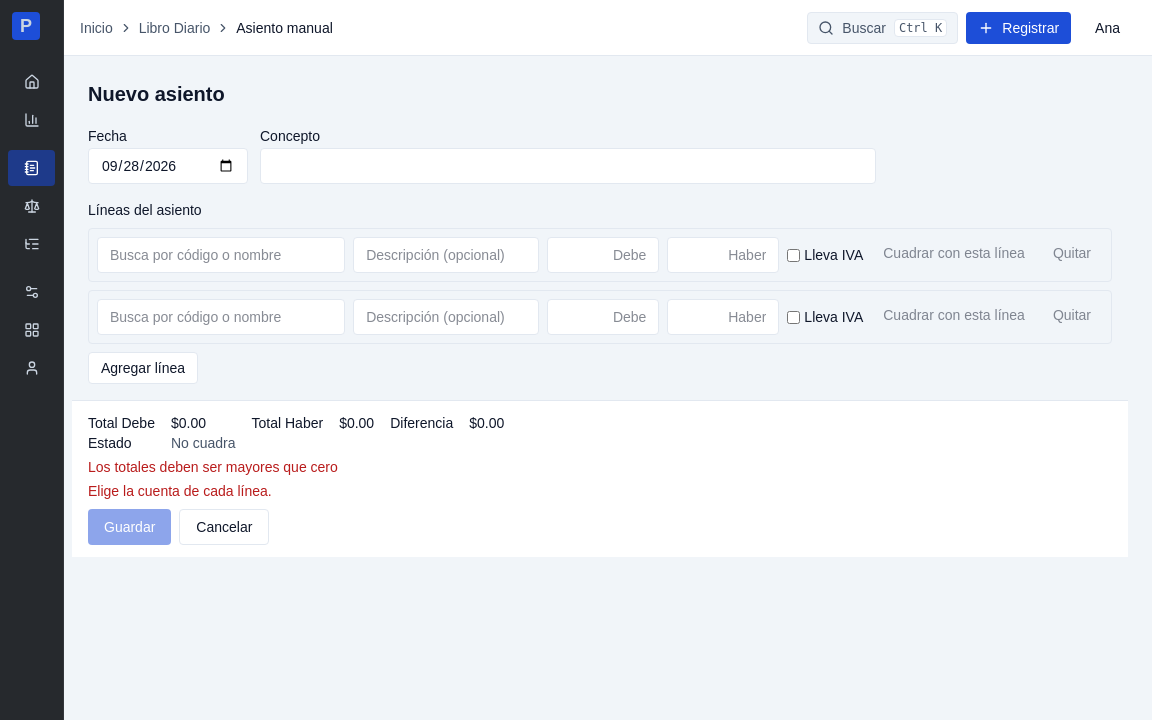
it: formulario del Libro Diario: totales y partida doble › un descuadre real (Debe 10.00 / Haber 9.00) sí anuncia la diferencia
The width and height of the screenshot is (1152, 720).
In the dropdown named "Cuenta de la línea 1": [221, 255] box [97,237,345,273], type "11010101"
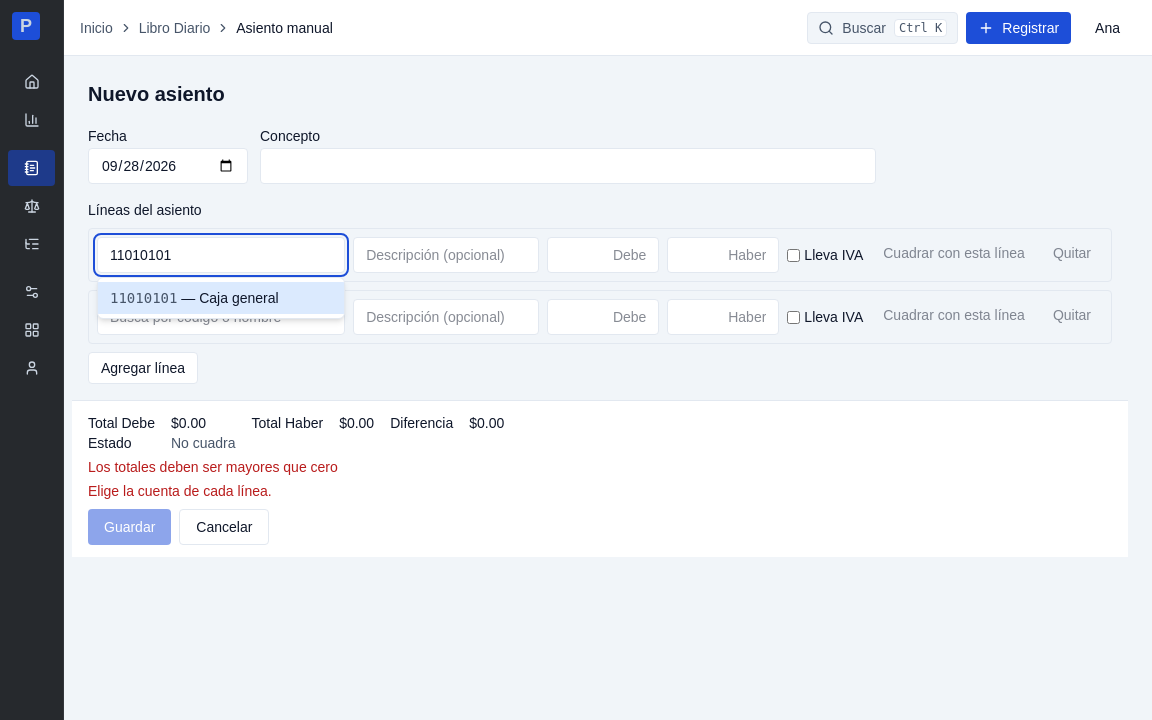
Click the option "11010101 — Caja general": [221, 298] box [98,282,344,314]
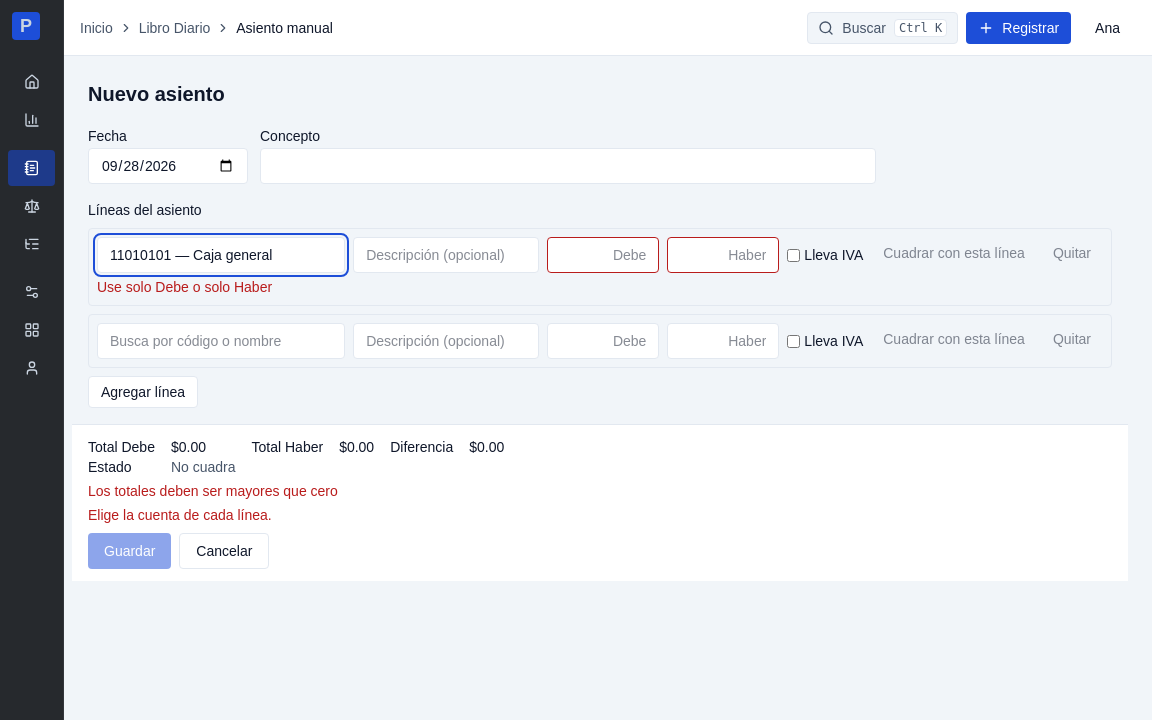
In the dropdown named "Cuenta de la línea 2": [221, 341] box [97,323,345,359], type "51010101"
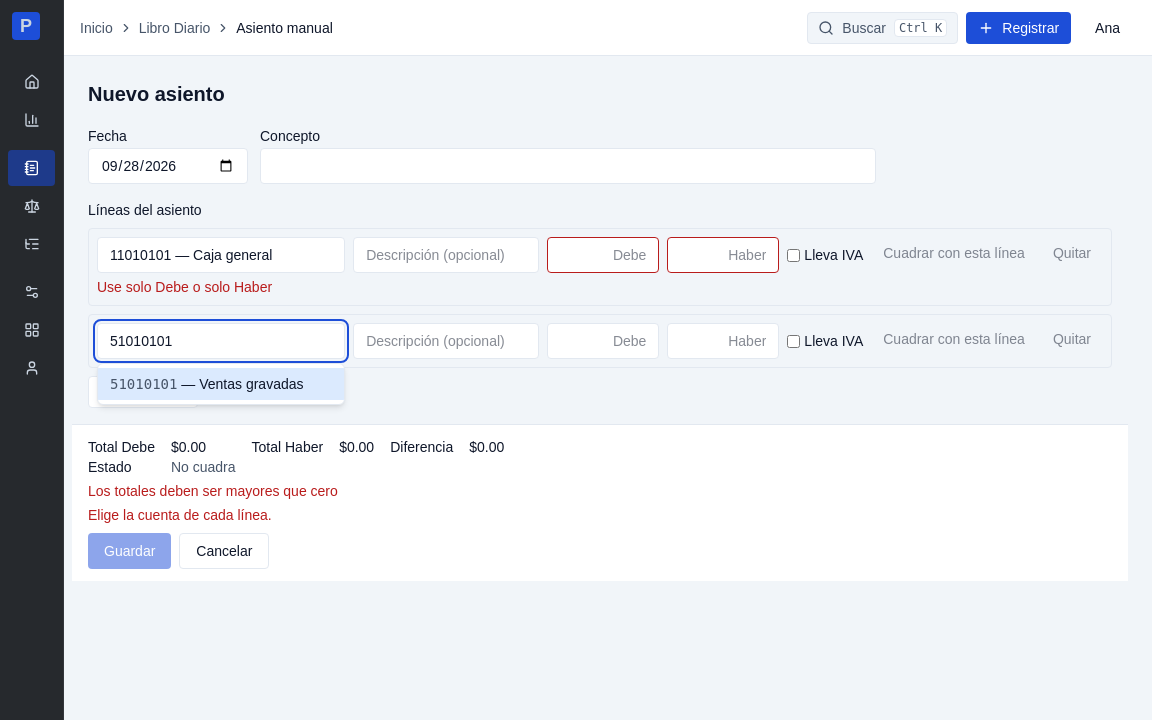
Click the option "51010101 — Ventas gravadas": [221, 384] box [98,368,344,400]
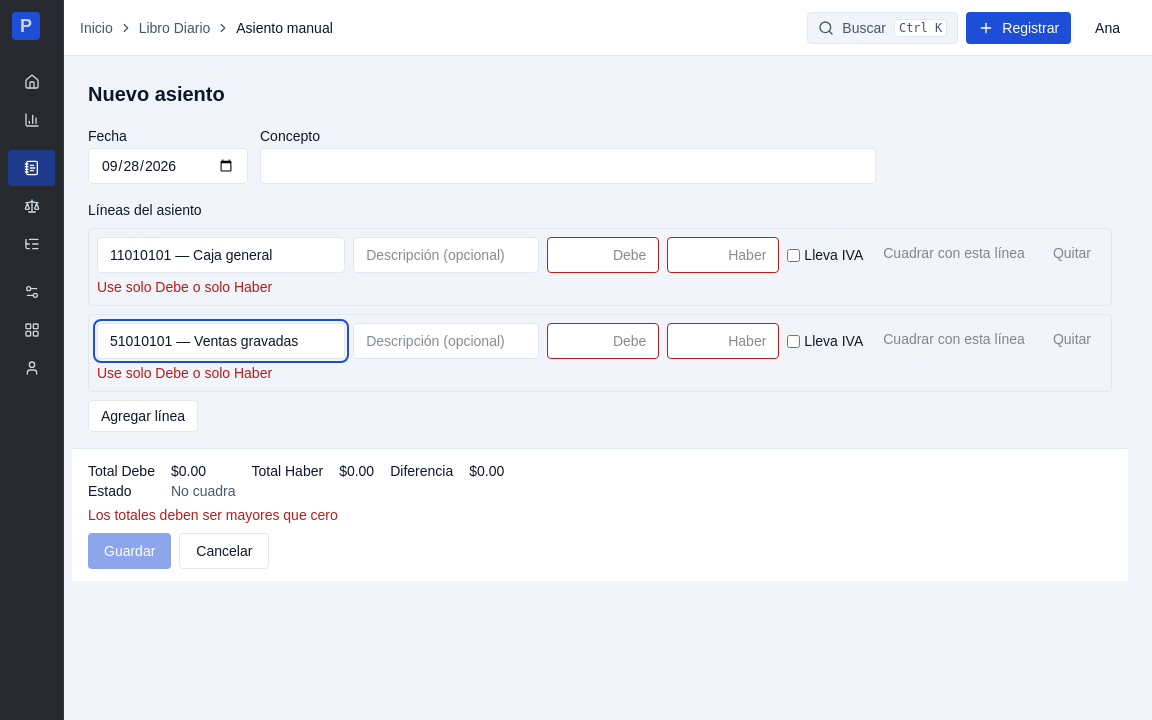
In the field named "Debe de la línea 1": [603, 255] box [547,237,659,273], type "10.00"
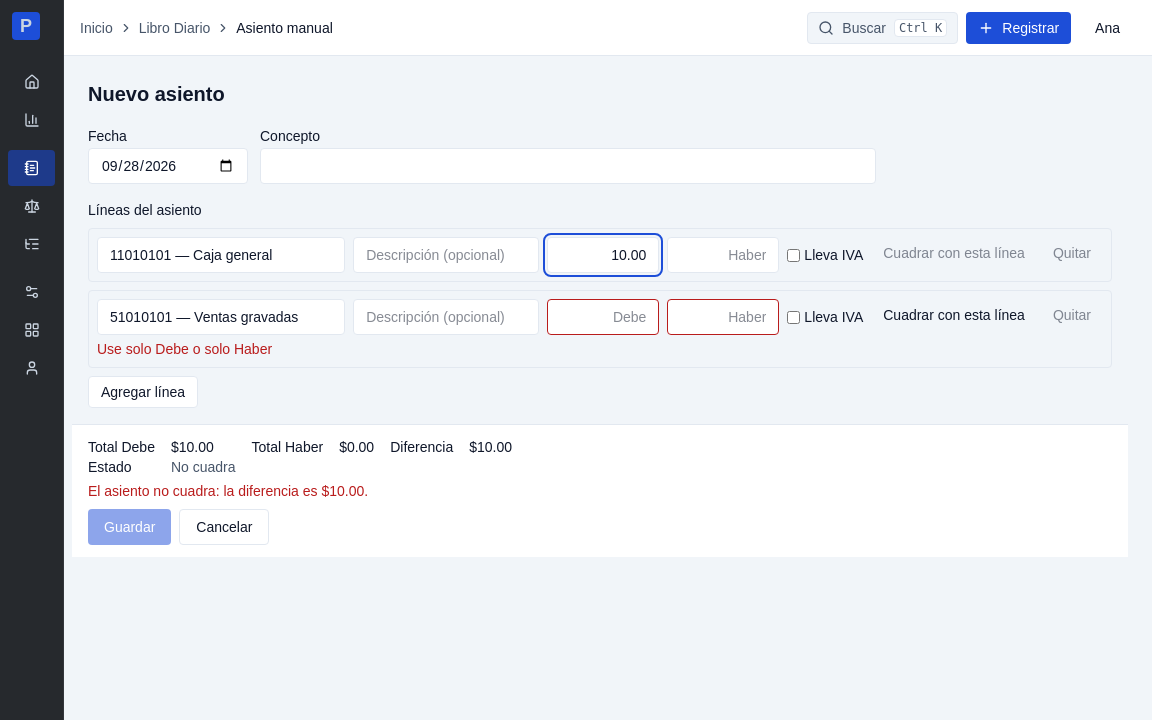
In the field named "Haber de la línea 2": [723, 317] box [667,299,779,335], type "9.00"
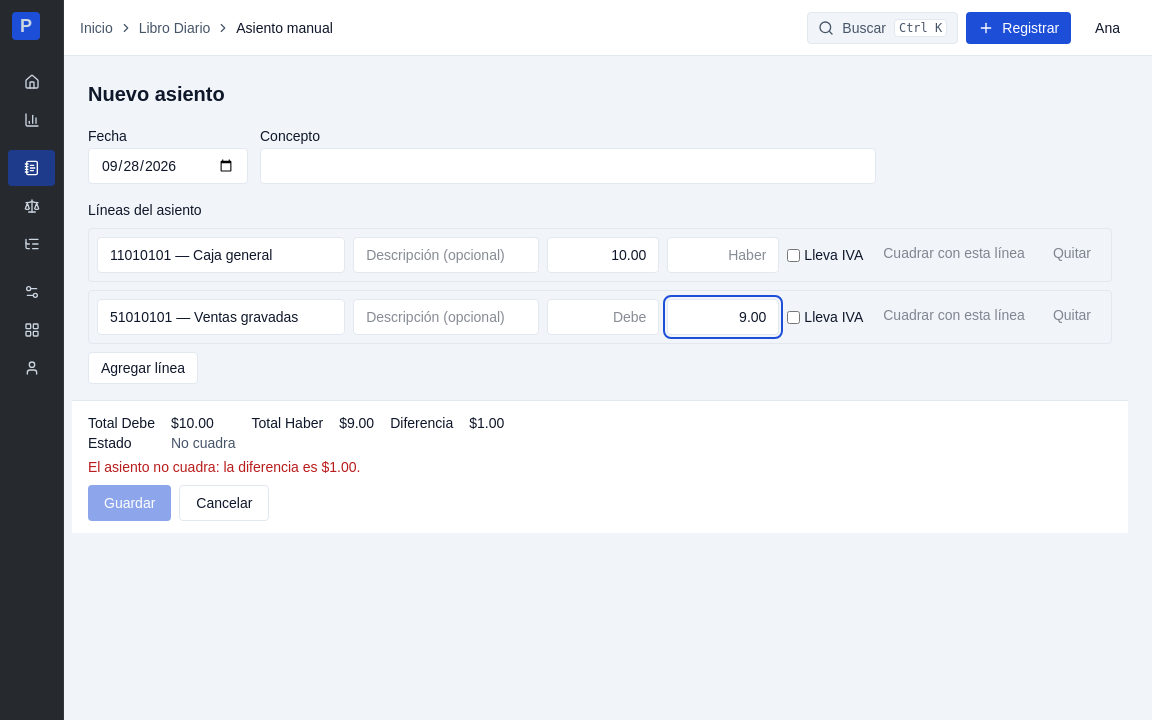
Expected: the text "El asiento no cuadra: la diferencia es $1.00." is shown, [88,459,360,475]
